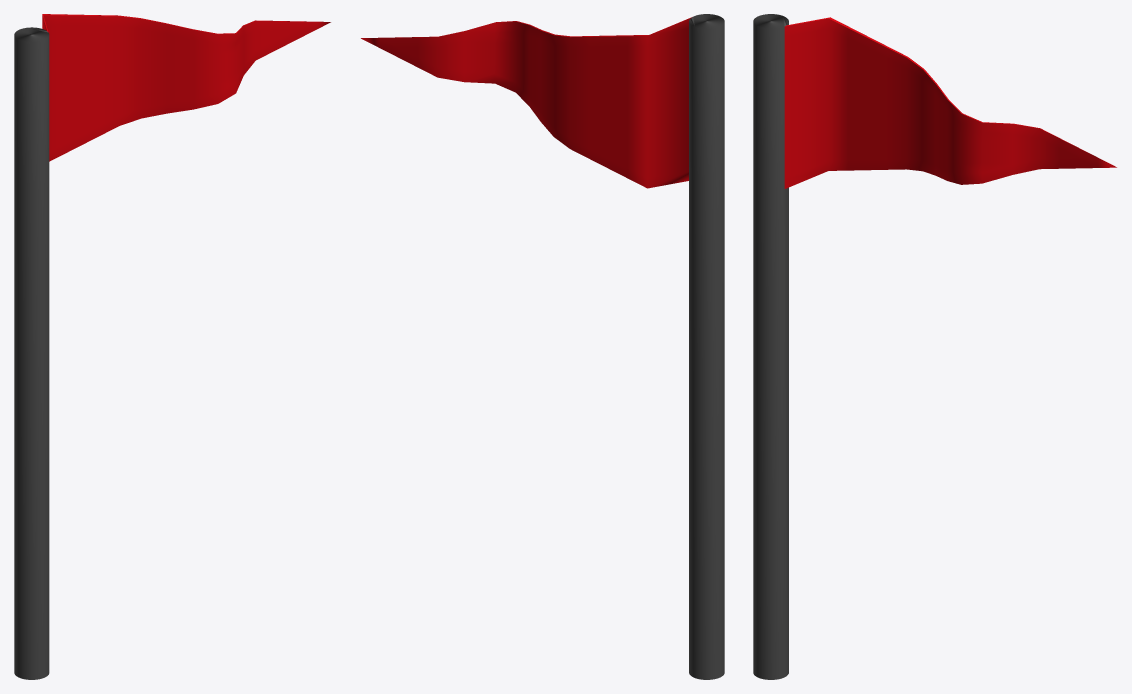
File: Flag5(T).fbx
3 renders of one model, left to right at view 1: azimuth 30°, elevation 25°; view 2: azimuth 150°, elevation 25°; view 3: azimuth 330°, elevation 25°, orthographic. The views are drawn at different scales.
Parts seen in each view (by area): view 1: Flag5; view 2: Flag5; view 3: Flag5.
Part boxes in pixels (left/top/right/bottom): Flag5: left=14, top=14, right=330, bottom=679; Flag5: left=361, top=14, right=724, bottom=679; Flag5: left=753, top=14, right=1116, bottom=679.
Size of the model in its own units: 110 by 200 by 18.6.
